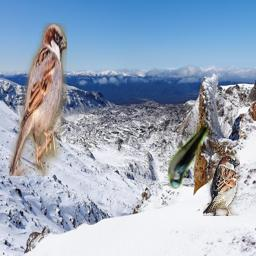Sparrow: (9, 23, 67, 176), (203, 154, 240, 216)
Swallow: (168, 123, 209, 189)
